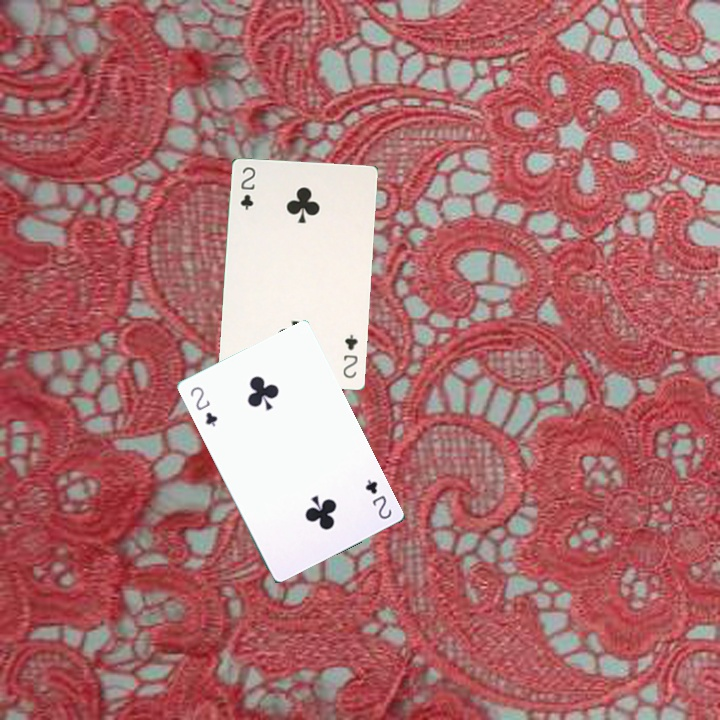2c: (186, 382, 220, 429), (361, 475, 394, 522), (236, 163, 258, 212), (339, 330, 360, 381)
